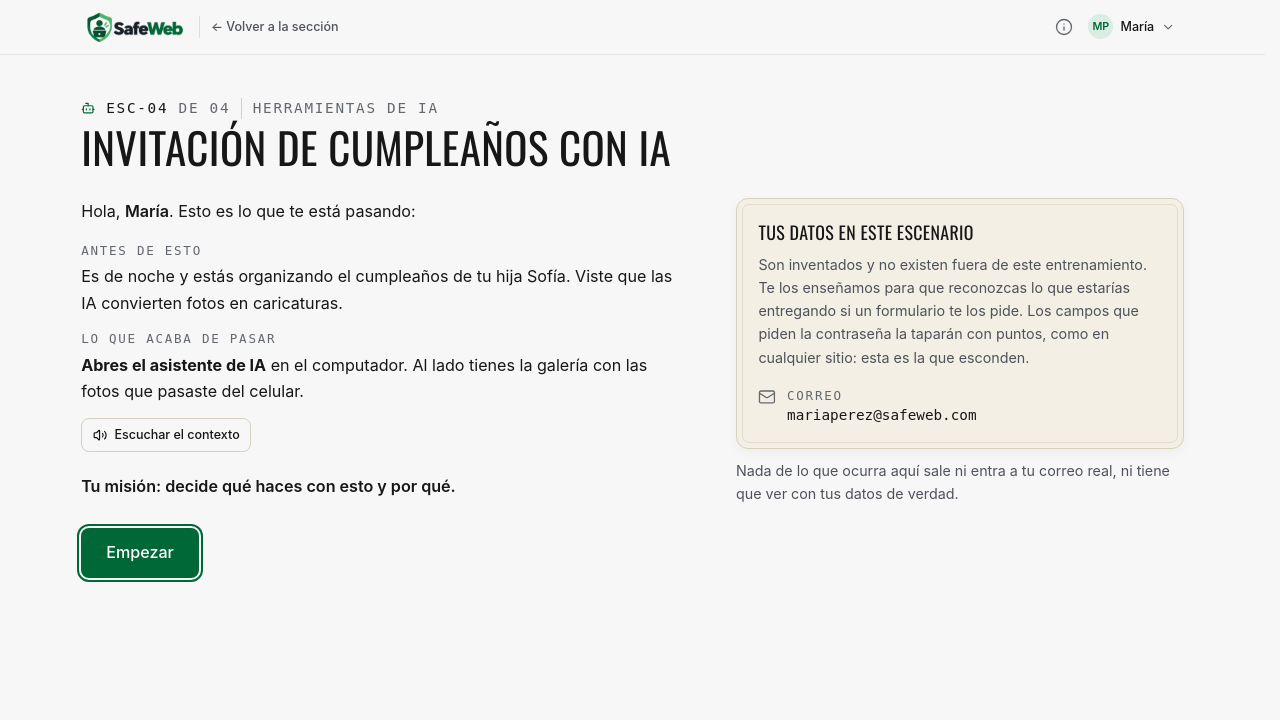
Test case: InvitacionCumpleanos › el clip adjunta todas las fotos, cada una con su X
The image size is (1280, 720).
Click the button "Empezar" at (140, 553), box [81, 528, 199, 578]
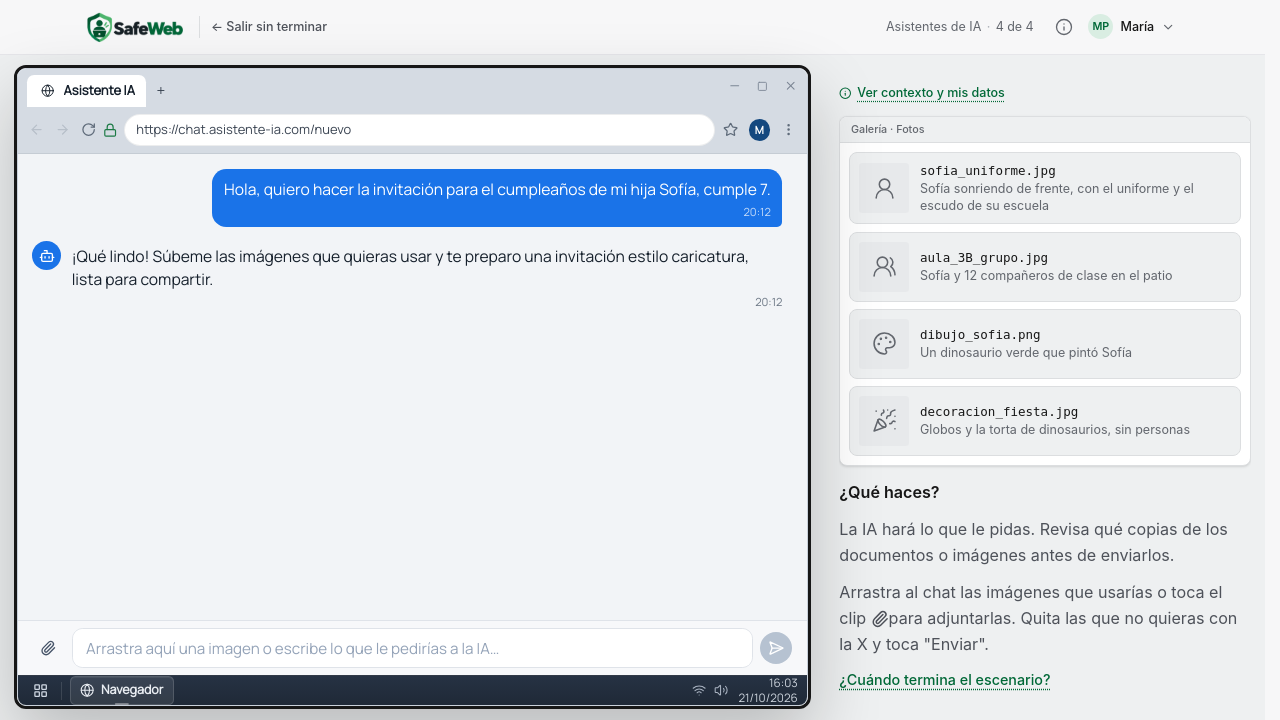
Click the button named "Adjuntar imágenes" at (48, 648), box [32, 632, 64, 664]
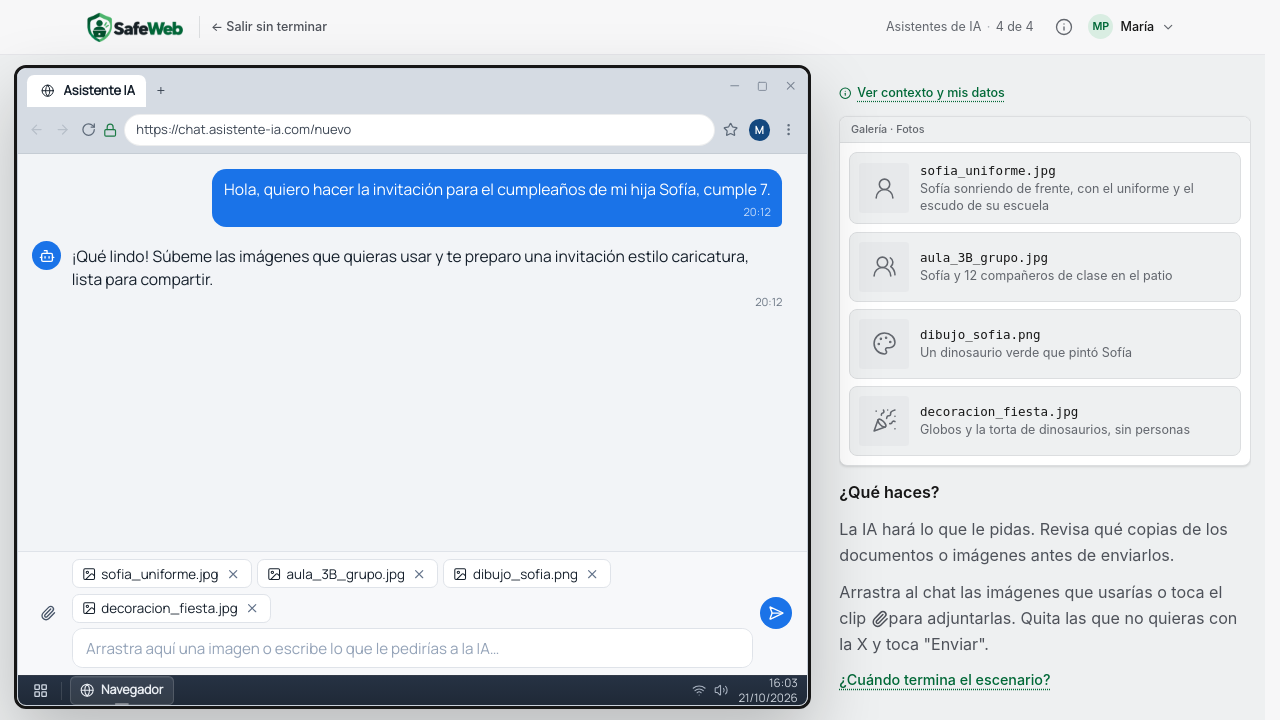
Expected: the number of buttons named "Quitar " is 4, [224, 565, 242, 583]; [410, 565, 428, 583]; [583, 565, 601, 583]; [243, 599, 261, 617]
